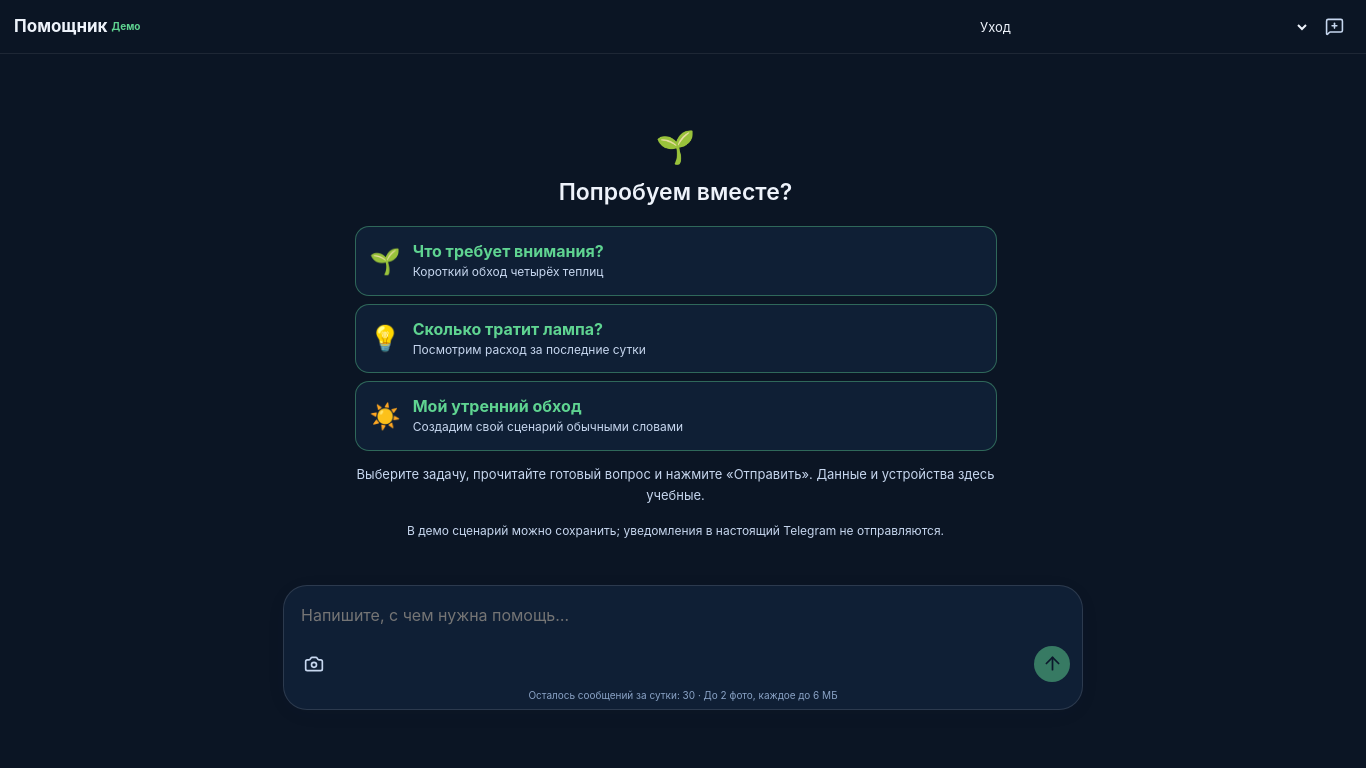
Test: demo examples fill editable text without sending or applying changes
Click the button "Мой утренний обход": (385, 416) [354,381,996,451]
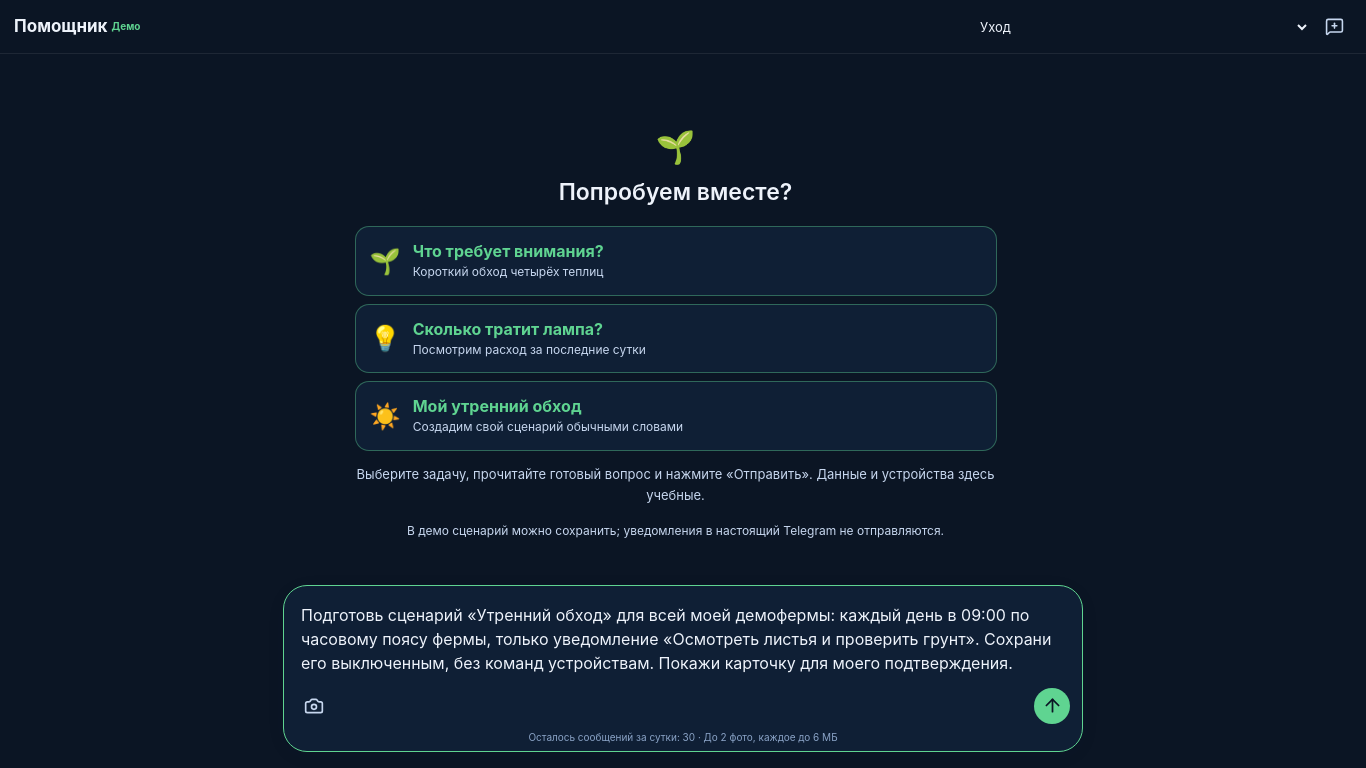
Expected: the text box named "Ваш вопрос" holds "Подготовь сценарий «Утренний обход» для всей моей демофермы: каждый день в 09:00 по часовому поясу фермы, только уведомление «Осмотреть листья и проверить грунт", [296,596,1070,682]
